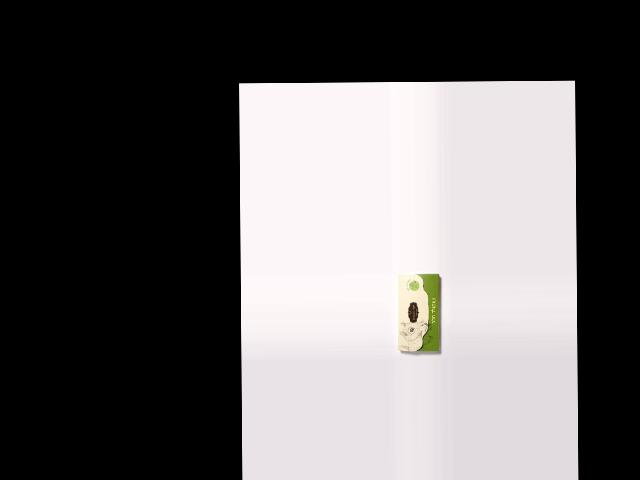chocolate: (396, 272, 440, 352)
